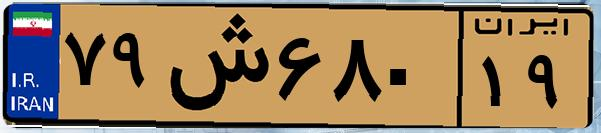0: (385, 28, 445, 110)
1: (475, 38, 525, 113)
6: (270, 28, 330, 110)
7: (57, 26, 110, 100)
8: (330, 28, 385, 110)
9: (525, 38, 570, 115), (110, 28, 158, 98)
ش: (158, 12, 270, 120)
